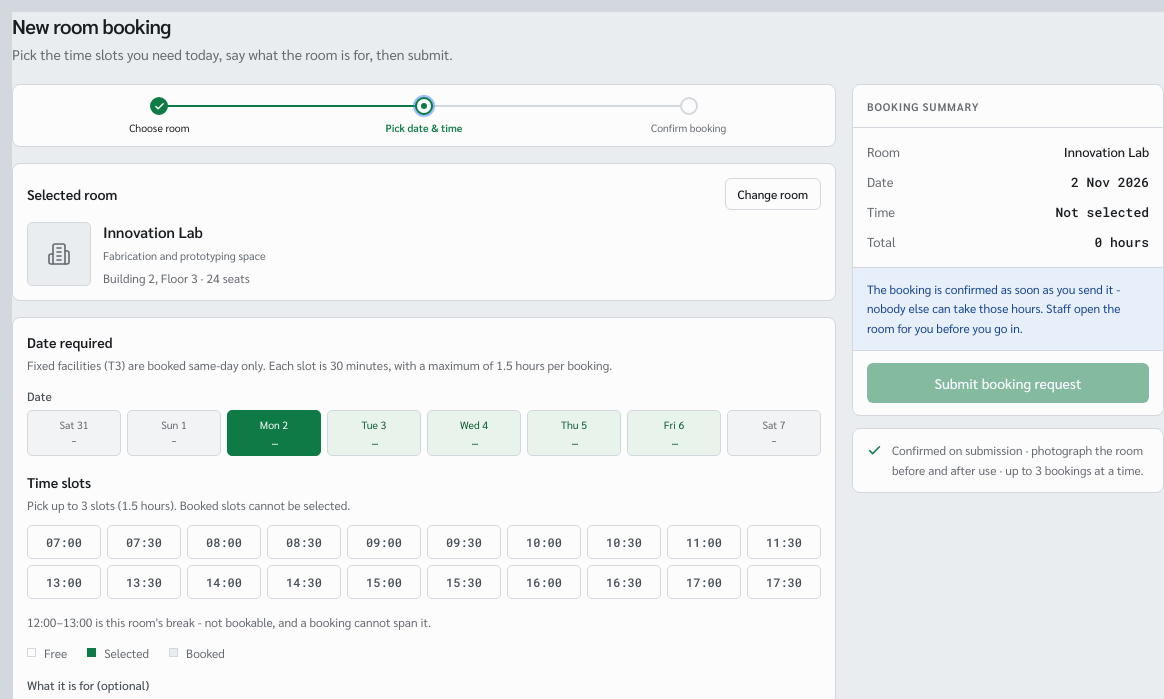
Test: Module 5 T3 facilities › does not allow a booking to cross the lunch break
Click the button "11:30": (784, 542) [747,525,821,559]
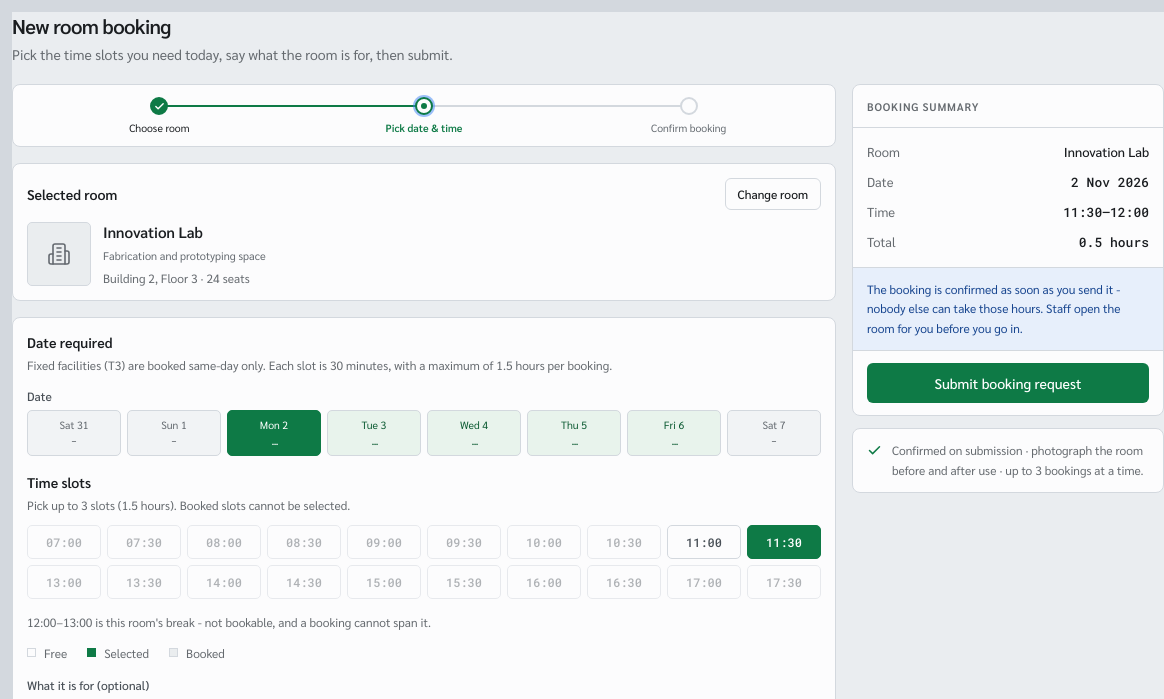
Expected: the button "13:00" is disabled, [27,565,101,599]
